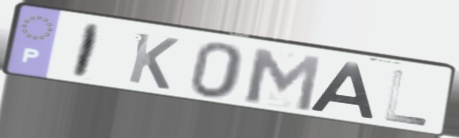0: (188, 40, 247, 101)
A: (305, 59, 377, 120)
I: (68, 22, 105, 82)
K: (125, 30, 182, 93)
L: (382, 67, 430, 128)
M: (243, 45, 324, 114)
